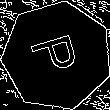P_E: (27, 31, 87, 81)
